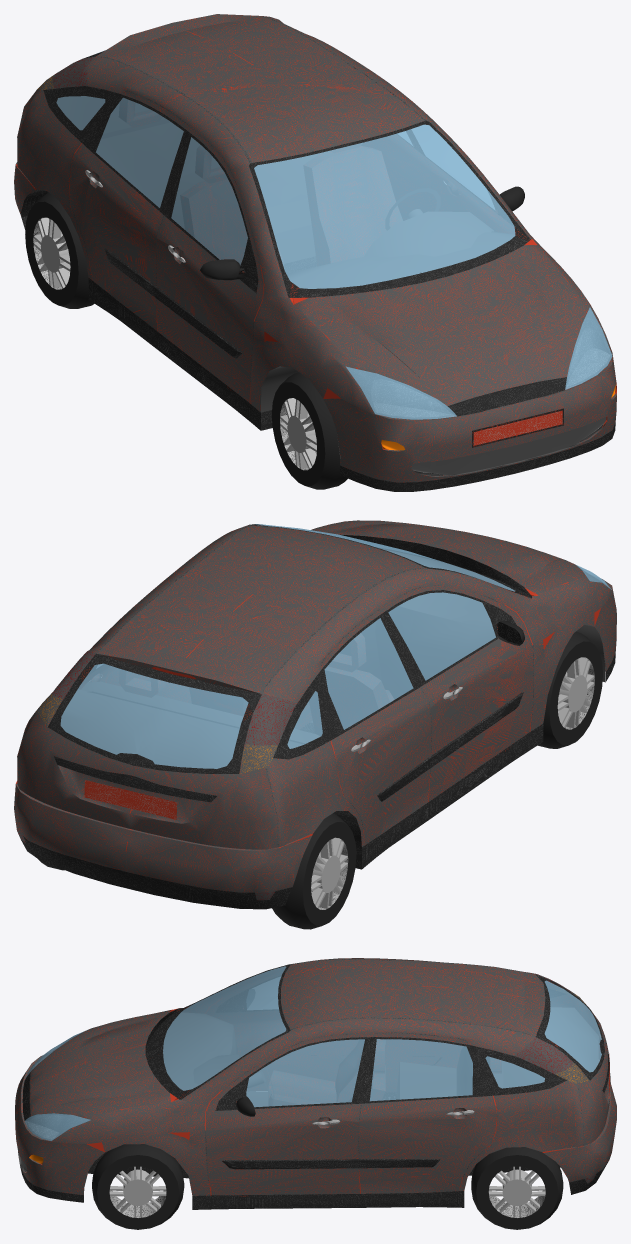
Rendered from Ford_Focus.fbx.
The picture shows the model from 3 angles, top to bottom: view 1: azimuth 30°, elevation 25°; view 2: azimuth 150°, elevation 25°; view 3: azimuth 270°, elevation 25°; orthographic projection. The views are drawn at different scales.
Parts seen in each view (by area): view 1: Group_18_2, Group_18_1, Group15, Group1, Group12, Group17, Group_13_4, Group16, Group13, Group_13_3; view 2: Group_18_2, Group_18_1, Group12, Group15, Group_13_2, Group_13_3, Group16, Group13; view 3: Group_18_1, Group_18_2, Group8, Group5, Group6, Group9, Group1.
Part boxes in pixels (left/top/right/bottom): Group_18_2: left=14, top=23, right=517, bottom=491; Group_18_1: left=173, top=14, right=616, bottom=473; Group15: left=271, top=372, right=347, bottom=489; Group1: left=365, top=212, right=493, bottom=256; Group12: left=25, top=193, right=94, bottom=308; Group17: left=200, top=259, right=244, bottom=280; Group_13_4: left=119, top=98, right=162, bottom=127; Group16: left=287, top=412, right=315, bottom=452; Group13: left=40, top=232, right=69, bottom=272; Group_13_3: left=195, top=145, right=227, bottom=183; Group_18_2: left=126, top=537, right=616, bottom=909; Group_18_1: left=14, top=520, right=495, bottom=889; Group12: left=272, top=813, right=356, bottom=929; Group15: left=538, top=632, right=602, bottom=748; Group_13_2: left=119, top=669, right=165, bottom=697; Group_13_3: left=328, top=633, right=365, bottom=671; Group16: left=559, top=671, right=587, bottom=712; Group13: left=312, top=852, right=340, bottom=892; Group_18_1: left=15, top=984, right=616, bottom=1209; Group_18_2: left=15, top=958, right=616, bottom=1111; Group8: left=92, top=1144, right=184, bottom=1229; Group5: left=471, top=1147, right=563, bottom=1229; Group6: left=502, top=1169, right=531, bottom=1205; Group9: left=123, top=1169, right=152, bottom=1205; Group1: left=193, top=1054, right=238, bottom=1084.
Size of the model in its own units: 81.42 by 62.02 by 172.
